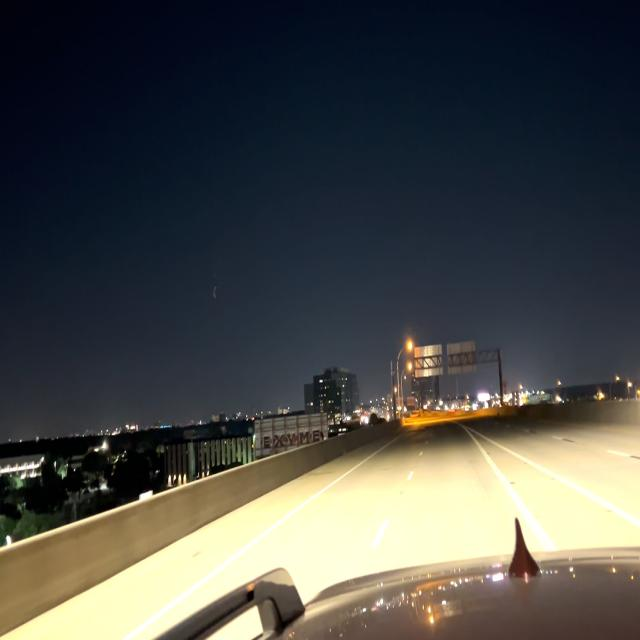back-of-sign: (446, 337, 477, 377), (414, 341, 444, 379)
